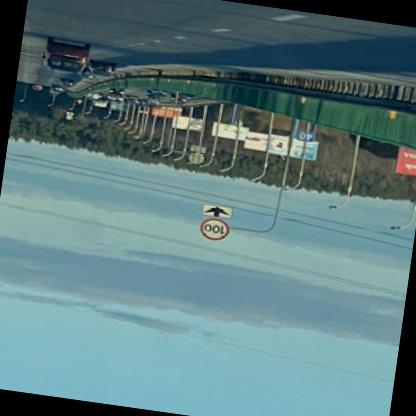speedlimit: (200, 218, 232, 244)
